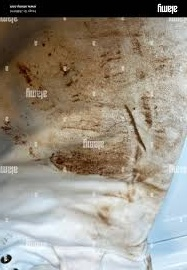earth: (54, 152, 133, 173), (124, 102, 144, 152), (100, 32, 123, 75), (5, 123, 24, 147), (61, 63, 77, 86), (95, 206, 110, 226), (17, 65, 33, 83)
